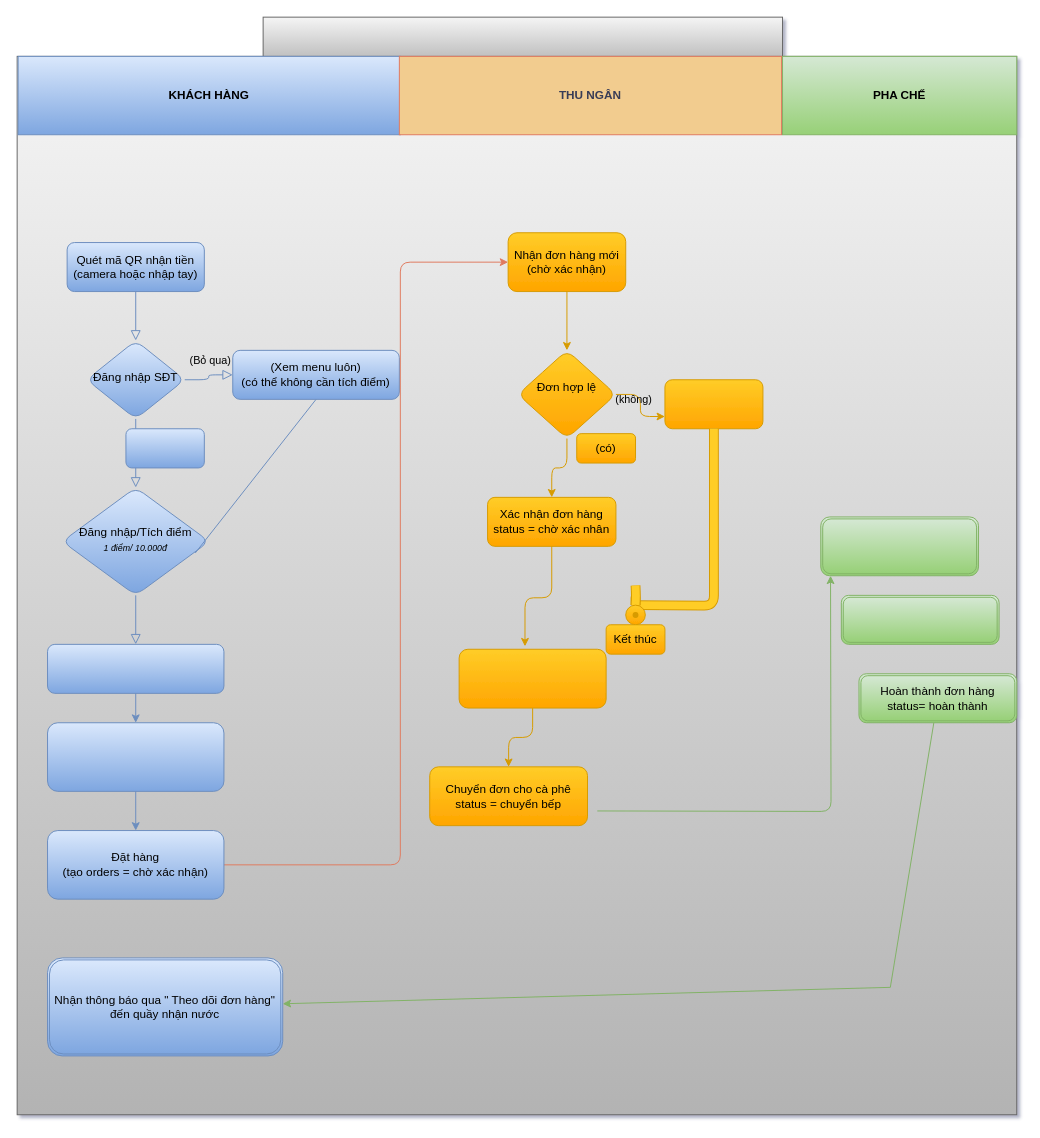
Some shapes in this 1040 by 1138 pixel diagram are drawn without their labels. The centre of each missing label's shape, as x and y in pixels:
(Nhập SĐT): the point at 164,448
Bắt đầu pha chế status = đang pha chế: the point at 919,619
Chọn PTTT & Thanh toán status = đã thanh toán: the point at 532,678
Nhận đơn trong hàng pha chê: the point at 899,546
Sơ đồ Activity - Quy trình xử lí đơn hàng: the point at 522,41
Thêm món vào giỏ, điều chỉnh: the point at 135,756
Từ chối liên hệ lại khách hàng: the point at 713,404
Xem thực đơn theo danh mục (6 danh mục, 15 món): the point at 135,668
